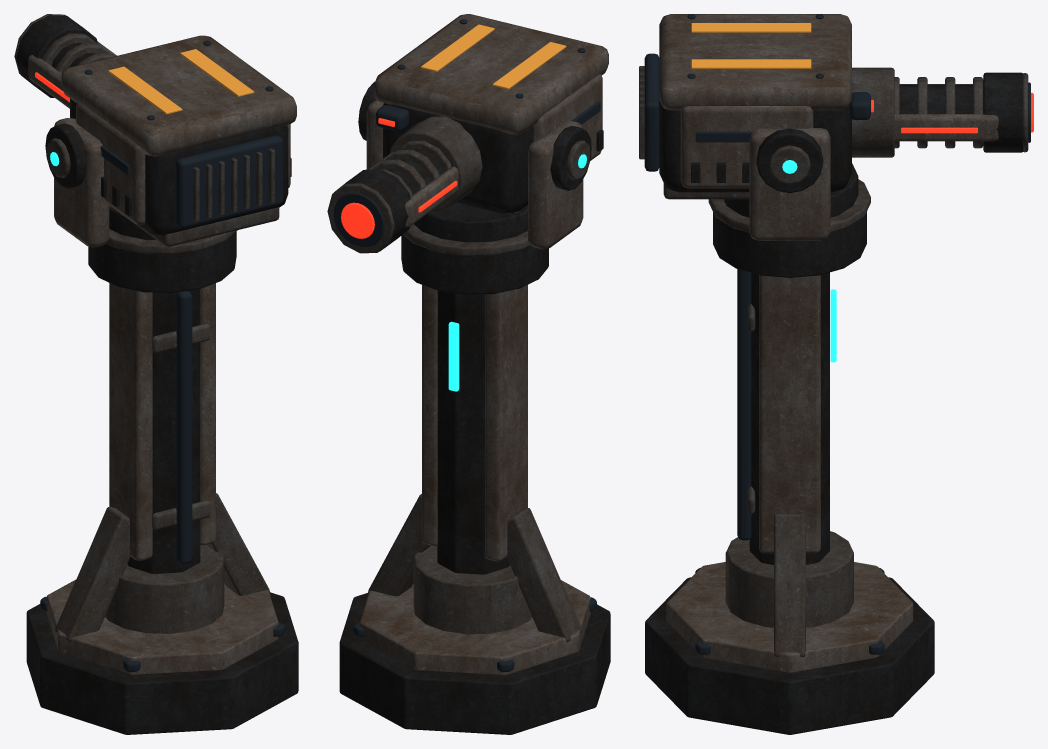
File: turret.glb
3 views of the same model, side by side, from view 1: azimuth 30°, elevation 25°; view 2: azimuth 150°, elevation 25°; view 3: azimuth 270°, elevation 25° (orthographic). The views are drawn at different scales.
Visible parts, largest first — view 1: TurretBase / Graphite / machined steel, TurretBase / Ceramic silver / brushed wear, TurretPitch / Ceramic silver / brushed wear, TurretBase / Exposed steel, TurretPitch / Graphite / machined steel, TurretPitch / Recesses, TurretPitch / Exposed steel, TurretBase / Recesses, TurretYaw / Ceramic silver / brushed wear, TurretPitch / Safety amber, TurretYaw / Graphite / machined steel, TurretYaw / Exposed steel; view 2: TurretBase / Graphite / machined steel, TurretBase / Ceramic silver / brushed wear, TurretPitch / Ceramic silver / brushed wear, TurretBase / Exposed steel, TurretPitch / Graphite / machined steel, TurretPitch / Exposed steel, TurretYaw / Ceramic silver / brushed wear, TurretYaw / Graphite / machined steel, TurretPitch / Recesses, TurretPitch / Safety amber, TurretPitch / Laser emitter, TurretBase / Status cyan (+1 smaller); view 3: TurretBase / Graphite / machined steel, TurretBase / Ceramic silver / brushed wear, TurretPitch / Ceramic silver / brushed wear, TurretBase / Exposed steel, TurretPitch / Graphite / machined steel, TurretPitch / Exposed steel, TurretYaw / Ceramic silver / brushed wear, TurretBase / Recesses, TurretPitch / Recesses, TurretYaw / Graphite / machined steel, TurretPitch / Safety amber, TurretYaw / Exposed steel (+1 smaller).
Boxes of the visible parts, <box> form: TurretBase / Graphite / machined steel: <box>26,231,298,734</box>; TurretBase / Ceramic silver / brushed wear: <box>46,283,278,674</box>; TurretPitch / Ceramic silver / brushed wear: <box>28,35,296,224</box>; TurretBase / Exposed steel: <box>55,229,269,641</box>; TurretPitch / Graphite / machined steel: <box>16,15,291,235</box>; TurretPitch / Recesses: <box>84,40,283,227</box>; TurretPitch / Exposed steel: <box>14,14,279,246</box>; TurretBase / Recesses: <box>40,290,284,671</box>; TurretYaw / Ceramic silver / brushed wear: <box>54,118,109,247</box>; TurretPitch / Safety amber: <box>108,49,254,114</box>; TurretYaw / Graphite / machined steel: <box>45,123,156,240</box>; TurretYaw / Exposed steel: <box>46,138,70,177</box>; TurretBase / Graphite / machined steel: <box>339,234,610,734</box>; TurretBase / Ceramic silver / brushed wear: <box>359,284,590,674</box>; TurretPitch / Ceramic silver / brushed wear: <box>368,14,608,227</box>; TurretBase / Exposed steel: <box>368,224,581,642</box>; TurretPitch / Graphite / machined steel: <box>334,103,603,251</box>; TurretPitch / Exposed steel: <box>327,116,527,253</box>; TurretYaw / Ceramic silver / brushed wear: <box>366,100,583,249</box>; TurretYaw / Graphite / machined steel: <box>358,81,591,242</box>; TurretPitch / Recesses: <box>333,19,600,247</box>; TurretPitch / Safety amber: <box>421,24,566,89</box>; TurretPitch / Laser emitter: <box>341,118,457,238</box>; TurretBase / Status cyan: <box>448,321,459,391</box>; TurretBase / Graphite / machined steel: <box>645,212,934,734</box>; TurretBase / Ceramic silver / brushed wear: <box>666,275,913,672</box>; TurretPitch / Ceramic silver / brushed wear: <box>659,14,998,188</box>; TurretBase / Exposed steel: <box>708,179,870,656</box>; TurretPitch / Graphite / machined steel: <box>659,72,1023,192</box>; TurretPitch / Exposed steel: <box>639,66,1028,199</box>; TurretYaw / Ceramic silver / brushed wear: <box>749,128,830,240</box>; TurretBase / Recesses: <box>695,269,884,654</box>; TurretPitch / Recesses: <box>644,14,1030,171</box>; TurretYaw / Graphite / machined steel: <box>723,128,858,217</box>; TurretPitch / Safety amber: <box>691,23,811,68</box>; TurretYaw / Exposed steel: <box>769,145,810,184</box>.
Bounding box in the file's own units: 0.6773 × 1.63 × 0.923.
7 materials, 3 textured.
